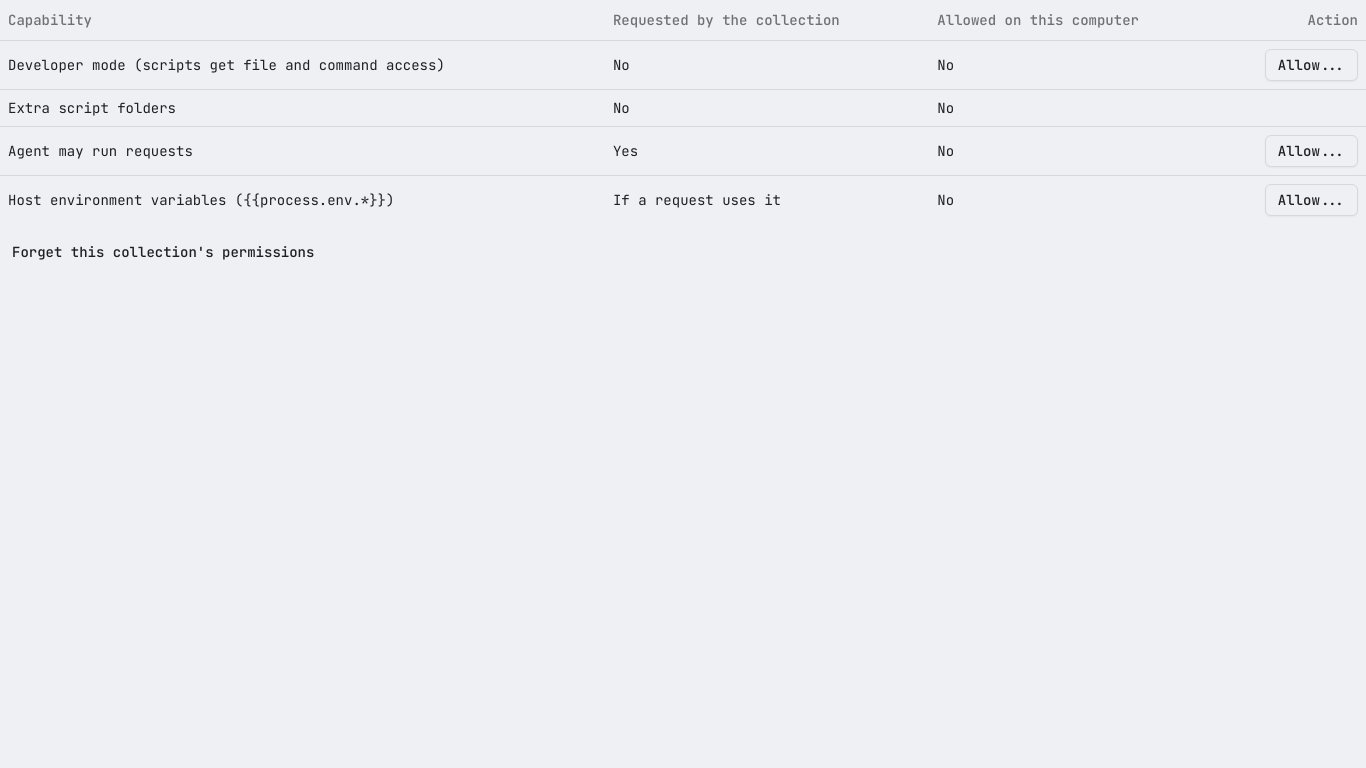
Test: CollectionTrustSection › shows the refusal when an allow fails and refetches
The width and height of the screenshot is (1366, 768).
Click the button "Allow..." in the row of "Agent may run requests".
click(1311, 150)  # box left=1265, top=134, right=1358, bottom=166
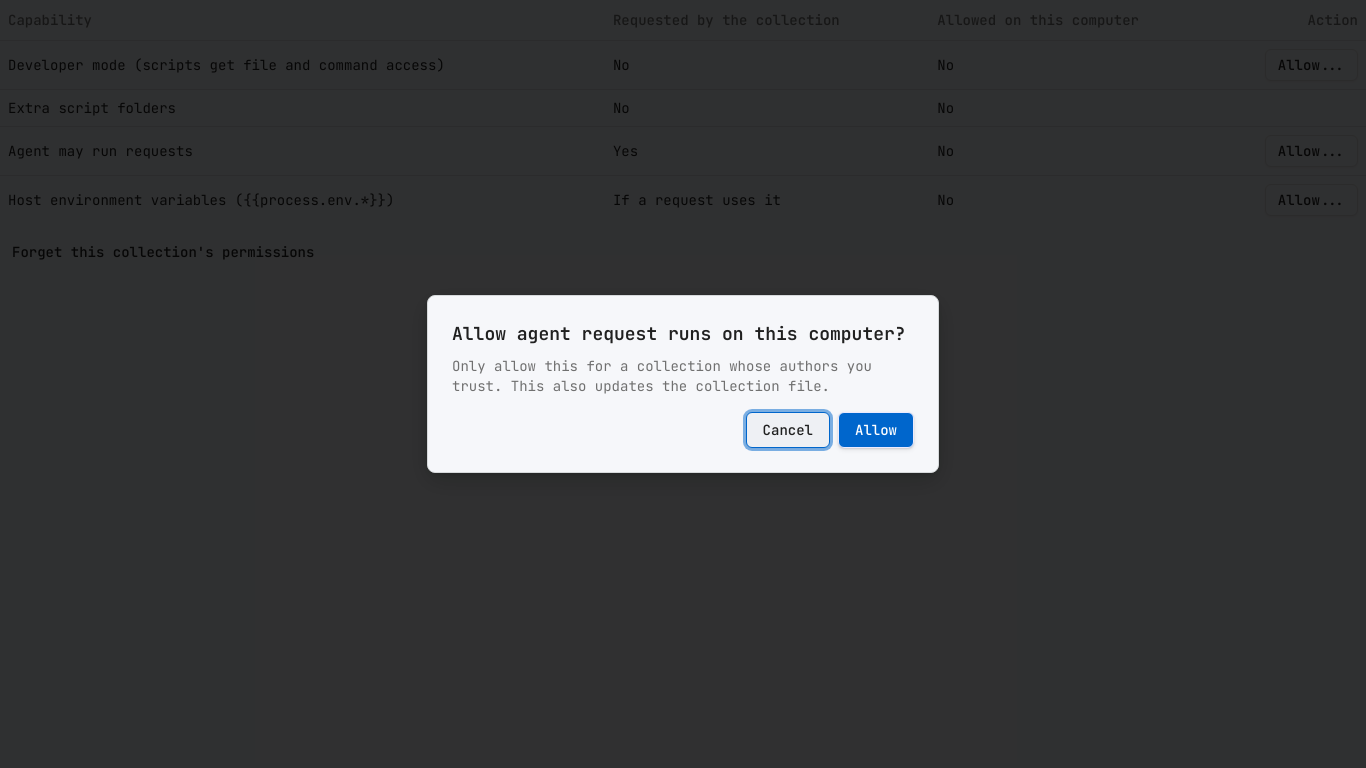
Click the button "Allow".
click(876, 430)  # box left=838, top=412, right=914, bottom=448
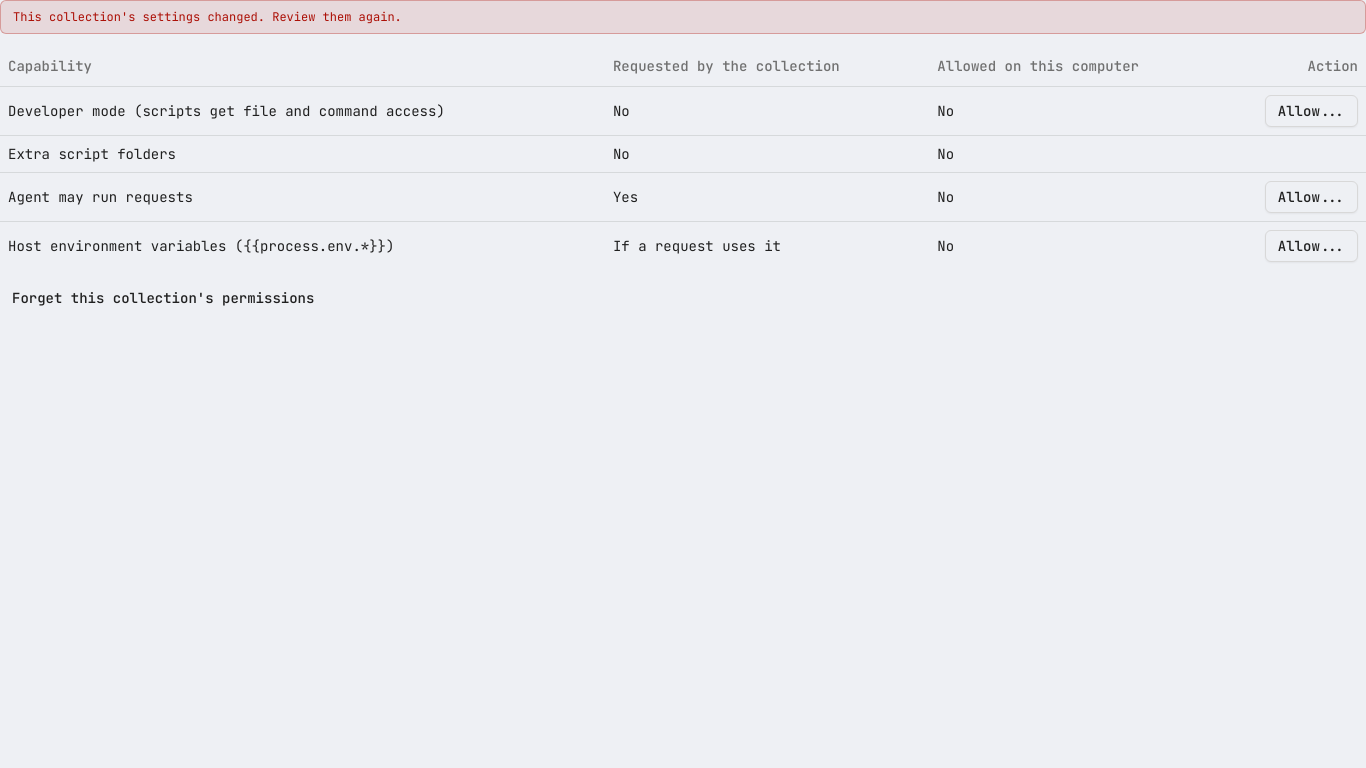
Check: the text "This collection's settings changed. Review them again." is shown, box left=0, top=0, right=1365, bottom=34
